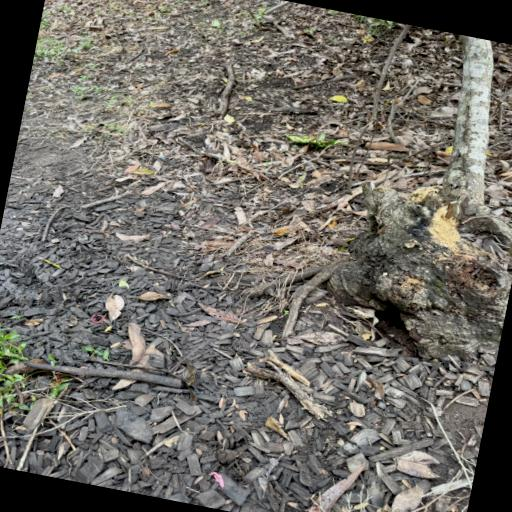tree root: (329, 35, 512, 362)
